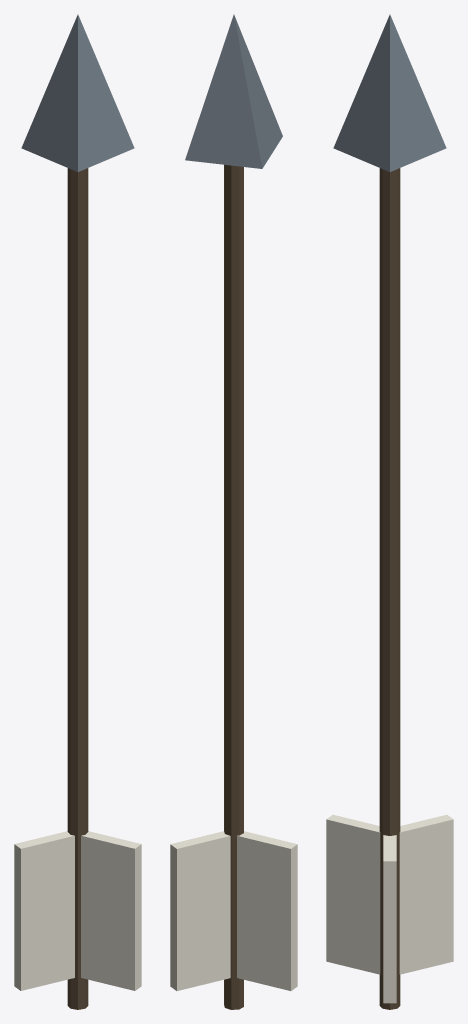
Rendered from SM_Arrow.fbx.
The picture shows the model from 3 angles, left to right: view 1: azimuth 90°, elevation 25°; view 2: azimuth 210°, elevation 25°; view 3: azimuth 270°, elevation 25°; orthographic projection.
Parts seen in each view (by area): view 1: Ash_shaft, Forged_broadhead, Fletching.001, Fletching.002; view 2: Ash_shaft, Fletching, Fletching.001, Forged_broadhead; view 3: Ash_shaft, Forged_broadhead, Fletching.001, Fletching.002, Fletching.
Boxes of the visible parts, x1,y1,x2,y2 form: Ash_shaft: (67,168,88,1009); Forged_broadhead: (21,14,134,171); Fletching.001: (14,831,74,990); Fletching.002: (81,831,141,990); Ash_shaft: (224,164,243,1009); Fletching: (170,831,230,990); Fletching.001: (237,831,297,990); Forged_broadhead: (185,14,282,168); Ash_shaft: (379,168,400,1009); Forged_broadhead: (333,14,446,171); Fletching.001: (399,814,453,974); Fletching.002: (326,814,380,974); Fletching: (383,835,396,1003).
Bounding box in the file's own units: 14.5 × 14.61 × 126.
